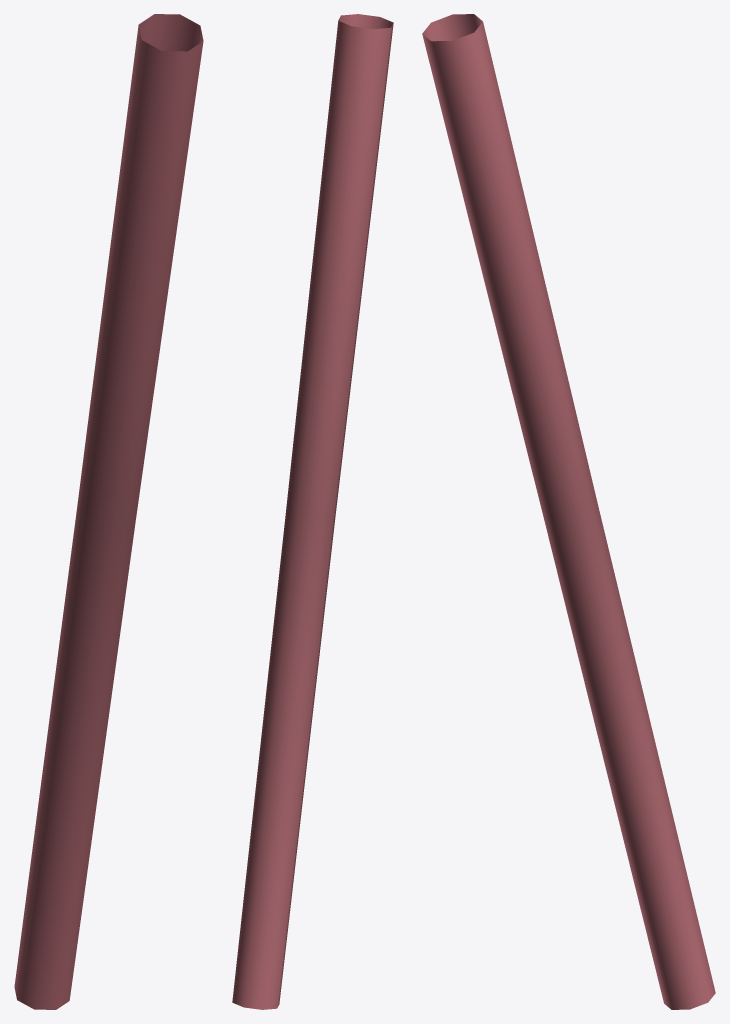
File: Flamingo_Body_Limb1L.fbx
The picture shows the model from 3 angles, left to right: view 1: azimuth 30°, elevation 25°; view 2: azimuth 150°, elevation 25°; view 3: azimuth 270°, elevation 25°; orthographic projection. The views are drawn at different scales.
Parts seen in each view (by area): view 1: Flamingo_Body_Limb1L; view 2: Flamingo_Body_Limb1L; view 3: Flamingo_Body_Limb1L.
Boxes of the visible parts, box(x1,y1,x2,y2) form: Flamingo_Body_Limb1L: box(14, 14, 203, 1009); Flamingo_Body_Limb1L: box(232, 14, 393, 1009); Flamingo_Body_Limb1L: box(422, 14, 715, 1009).
Bounding box in the file's own units: 0.552 × 9.59 × 2.6.
